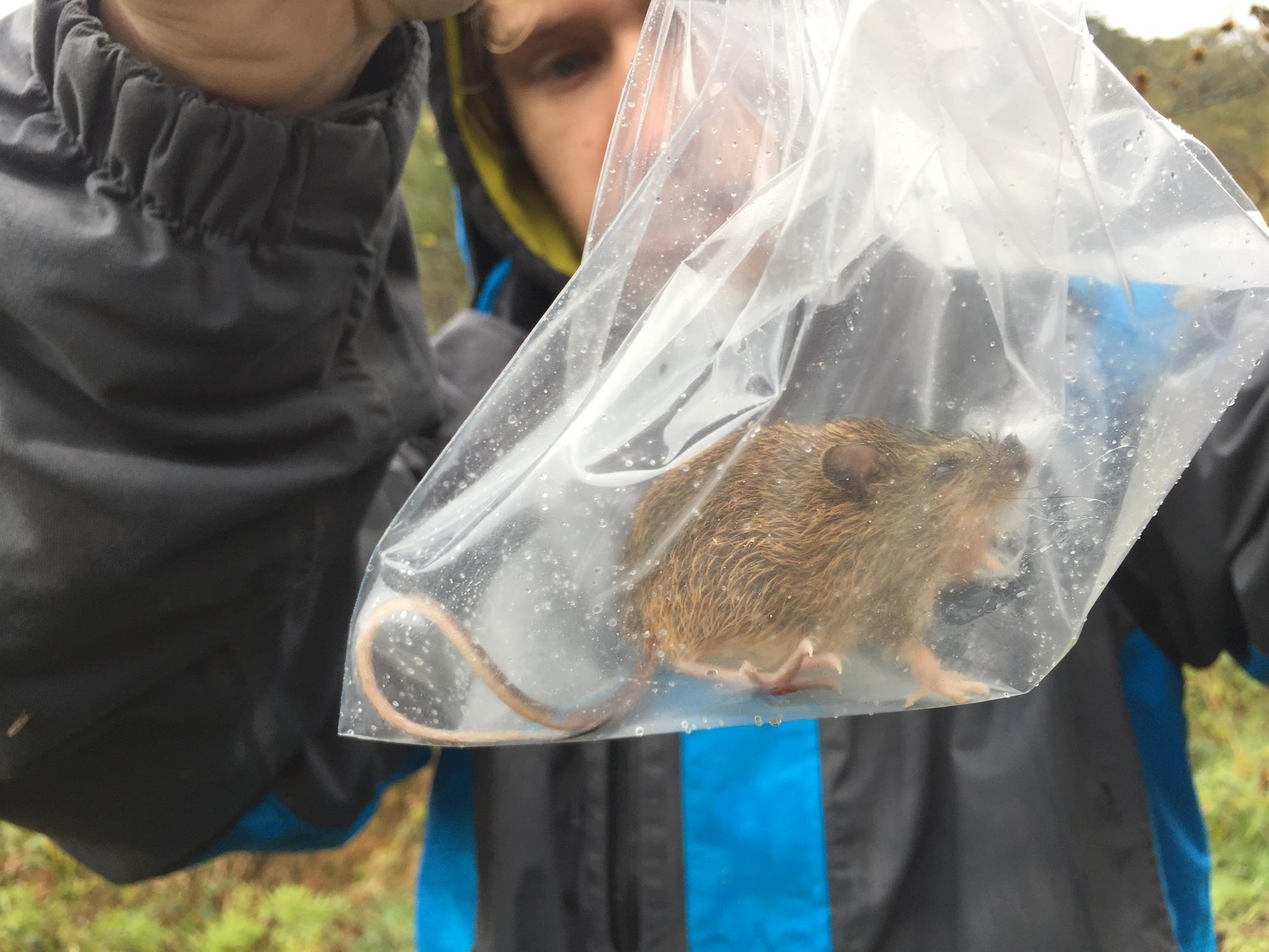rat: (357, 417, 1033, 744)
